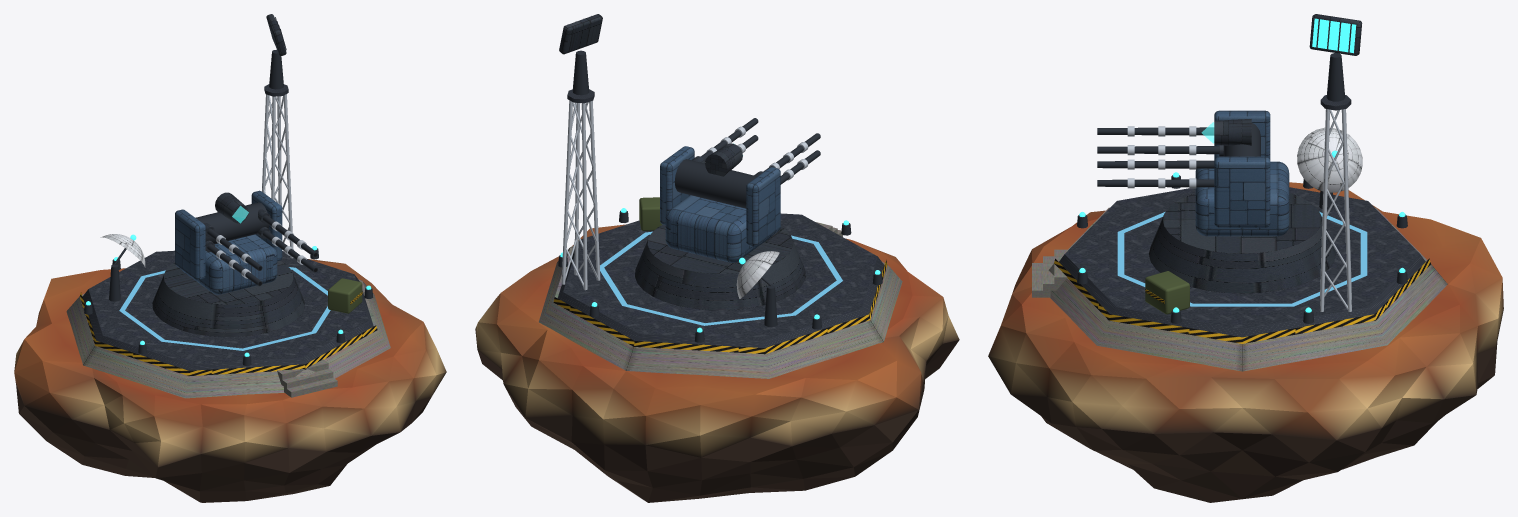
The model's file is aadefense-L50.glb.
The picture shows the model from 3 angles, left to right: view 1: azimuth 30°, elevation 25°; view 2: azimuth 150°, elevation 25°; view 3: azimuth 270°, elevation 25°; orthographic projection. The views are drawn at different scales.
Parts seen in each view (by area): view 1: object 1, object 4, object 25, object 2, anim:yaw, anim:rc (×4), anim:pitch, object 3, object 5, object 72, object 22, anim:rot (+2 smaller); view 2: object 1, object 4, object 2, object 25, anim:yaw, anim:pitch, object 3, anim:rot (×2), object 5, object 72, object 70, anim:rc; view 3: object 1, object 4, object 2, object 25, anim:yaw, anim:rot (×2), anim:rc (×4), object 3, object 5, anim:pitch, object 72, object 70.
Part boxes in pixels (x1,y1,x2,y2): object 1: (14,259,446,502); object 4: (82,250,373,370); object 25: (152,260,304,337); object 2: (66,279,390,398); anim:yaw: (175,190,282,294); anim:rc (×4): (203,209,317,286); anim:pitch: (195,192,268,244); object 3: (79,292,377,375); object 5: (119,267,330,350); object 72: (328,278,362,313); object 22: (284,377,337,397); anim:rot: (100,234,145,267); object 1: (475,224,959,502); object 4: (557,213,884,347); object 2: (539,246,902,378); object 25: (635,224,805,310); anim:yaw: (660,146,780,262); anim:pitch: (674,143,757,208); object 3: (553,260,887,354); anim:rot (×2): (559,14,779,298); object 5: (600,231,842,325); object 72: (639,197,662,230); object 70: (572,50,589,95); anim:rc: (692,118,758,163); object 1: (988,182,1503,502); object 4: (1059,187,1425,337); object 2: (1048,207,1447,371); object 25: (1149,193,1335,293); anim:yaw: (1195,110,1289,236); anim:rot (×2): (1297,14,1362,192); anim:rc (×4): (1097,126,1223,188); object 3: (1054,258,1430,343); object 5: (1117,211,1367,306); anim:pitch: (1201,119,1260,156); object 72: (1145,271,1189,314); object 70: (1326,53,1345,101).
Bounding box in the file's own units: 5.6 × 5.56 × 5.51.
Materials: 16 (7 with a texture image).
